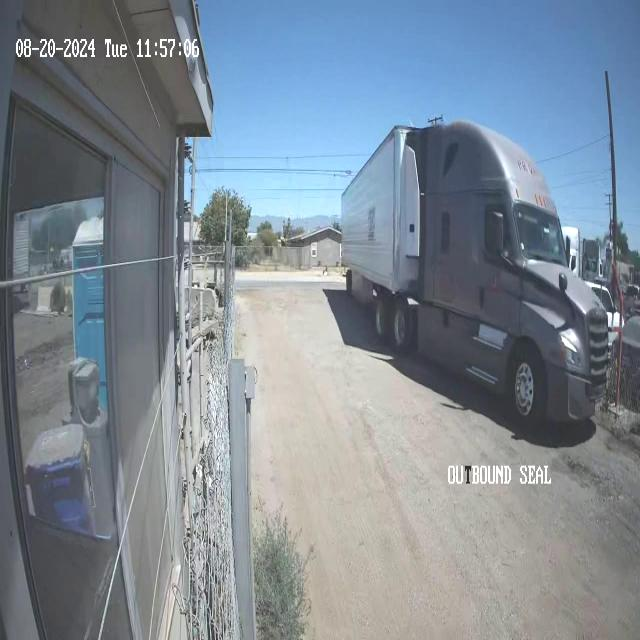TRUCK_CONTAINER: (340, 117, 610, 432)
